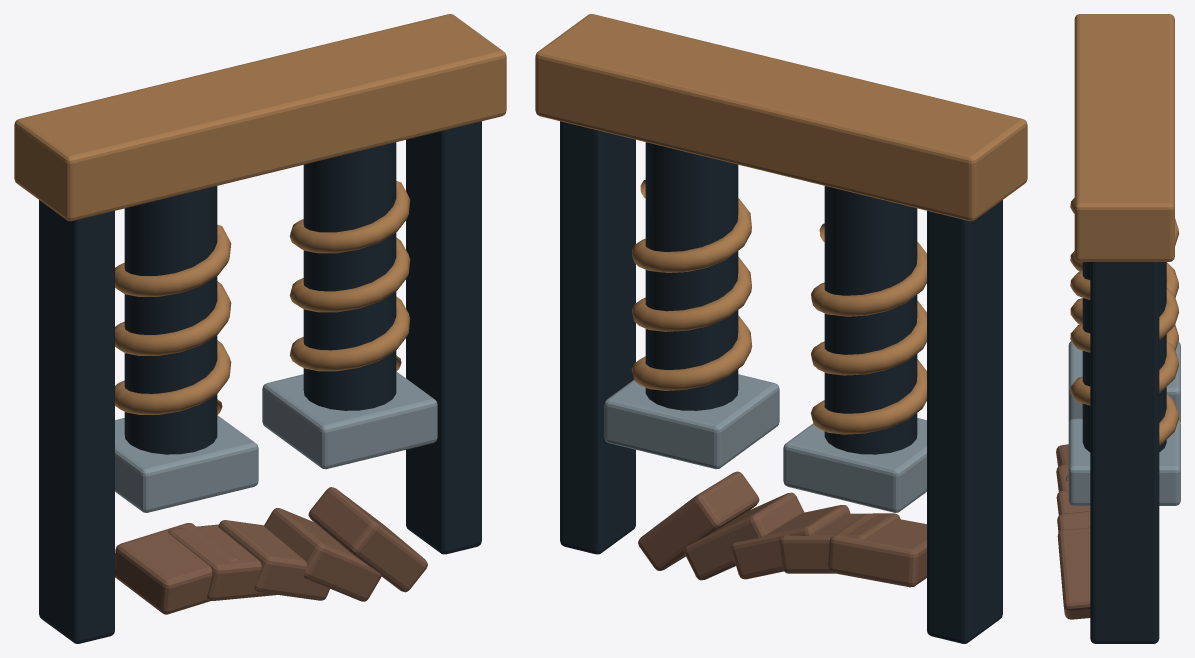
File: chamber_landmark.glb
3 views of the same model, side by side, from view 1: azimuth 30°, elevation 25°; view 2: azimuth 150°, elevation 25°; view 3: azimuth 270°, elevation 25° (orthographic). The views are drawn at different scales.
Visible parts, largest first — view 1: chamber_landmark; view 2: chamber_landmark; view 3: chamber_landmark.
Boxes of the visible parts, x1,y1,x2,y2 form: chamber_landmark: (14, 14, 506, 643); chamber_landmark: (535, 14, 1027, 643); chamber_landmark: (1056, 14, 1180, 643).
Bounding box in the file's own units: 3.05 × 3.39 × 0.8333.
